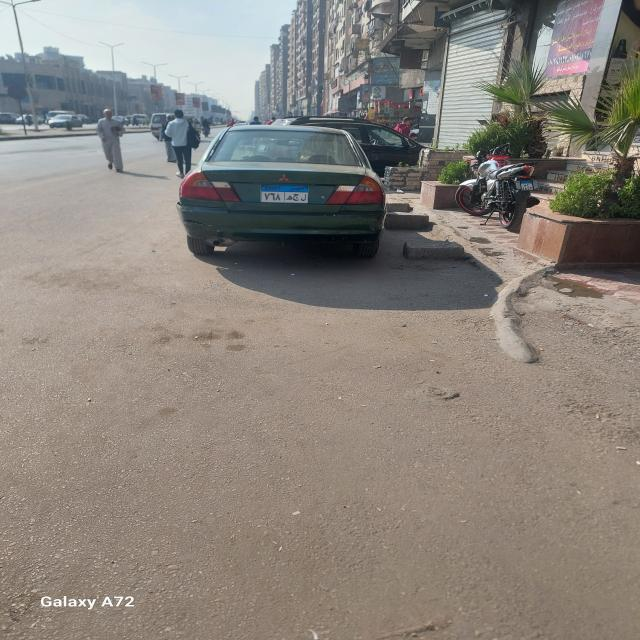car-plate: (262, 185, 307, 203)
